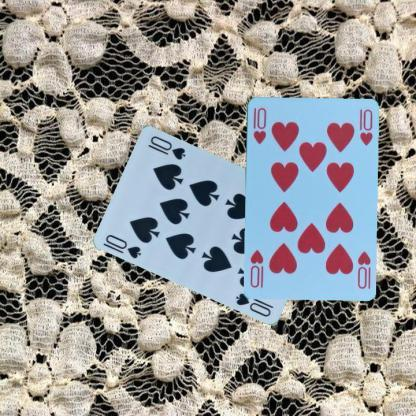10h: (354, 247, 372, 290), (250, 104, 268, 146)
10s: (104, 232, 144, 260)
